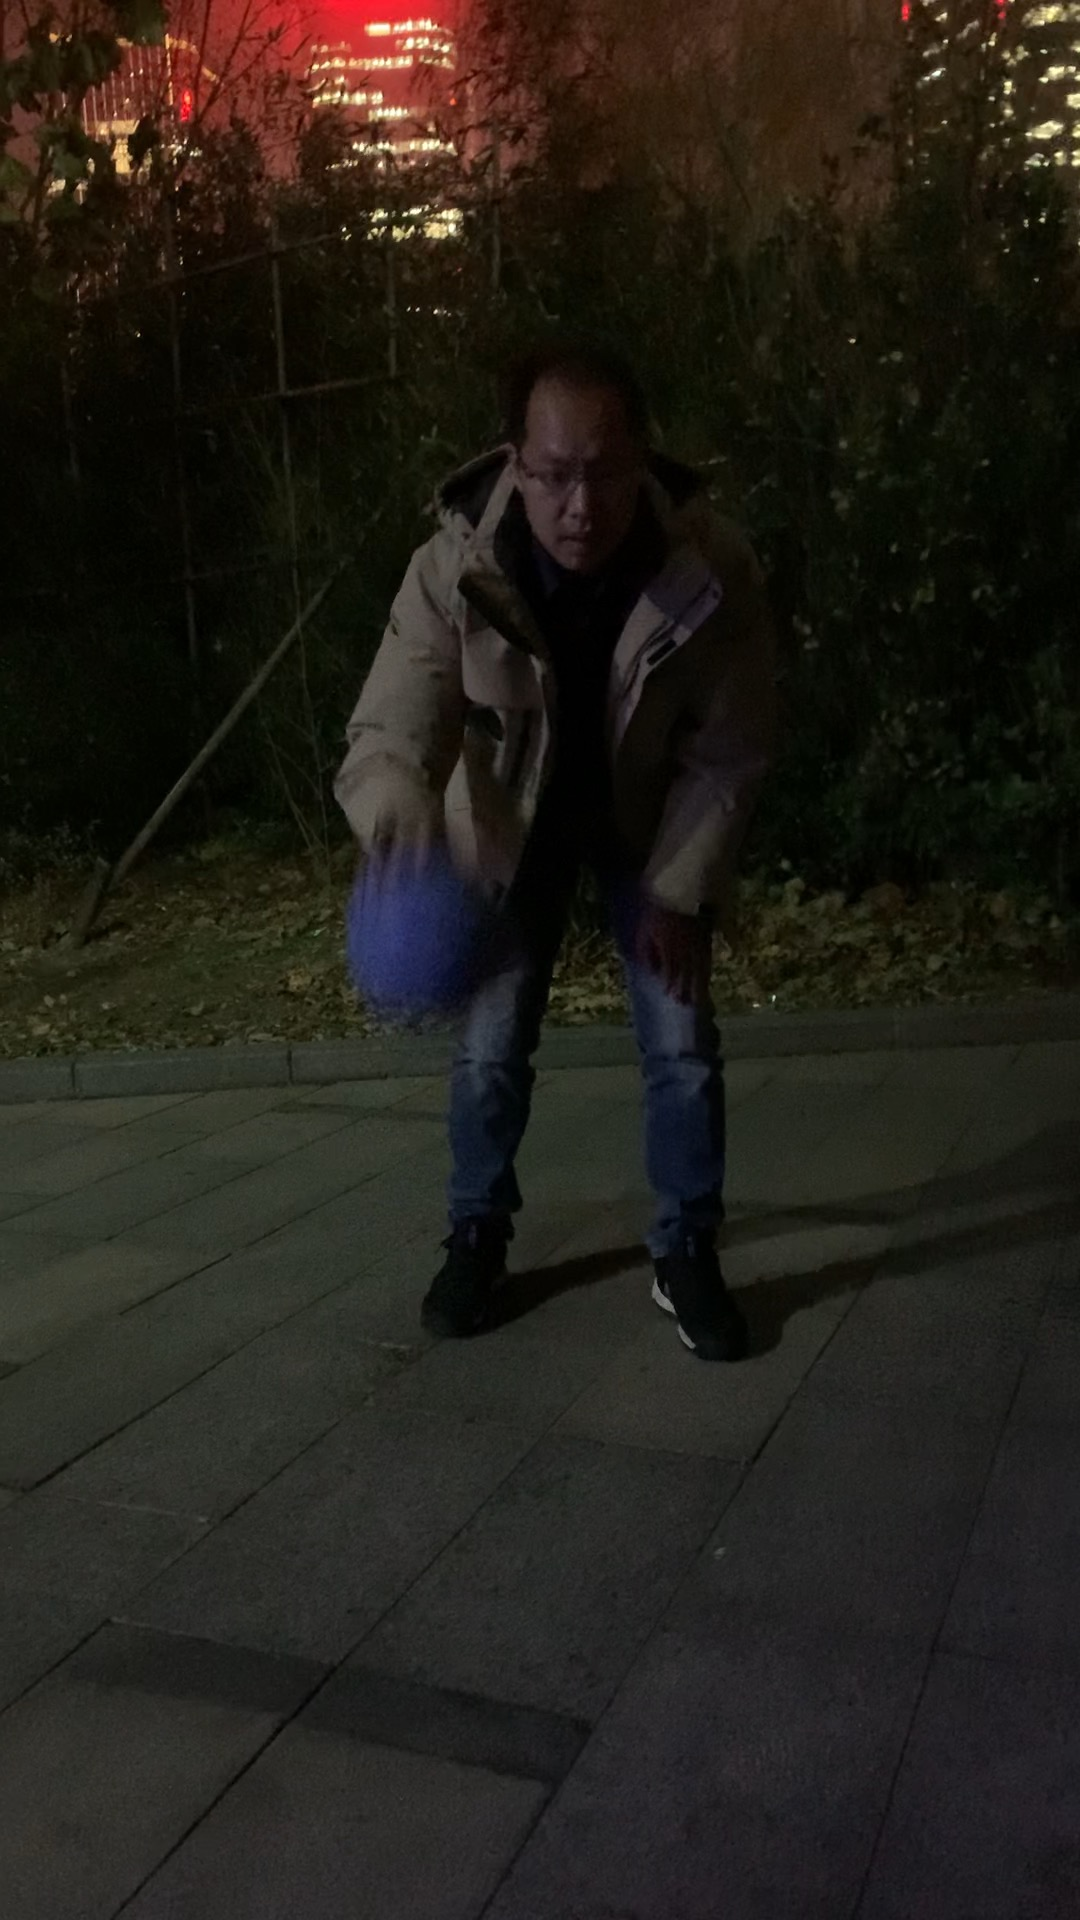ball: (342, 861, 501, 1004)
